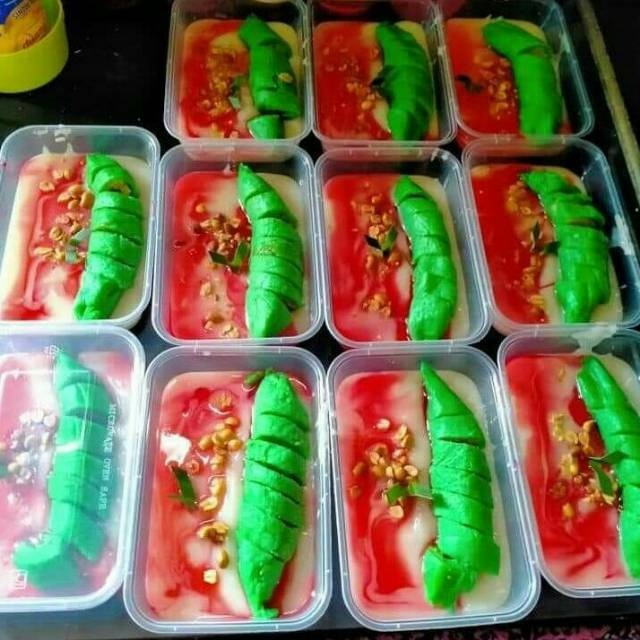es_pisang_ijo: (334, 366, 518, 614), (143, 360, 314, 620), (517, 348, 640, 582), (326, 172, 473, 340), (172, 161, 309, 341), (473, 158, 621, 322), (9, 145, 152, 309), (315, 13, 441, 146), (182, 10, 305, 137), (447, 15, 570, 137)
